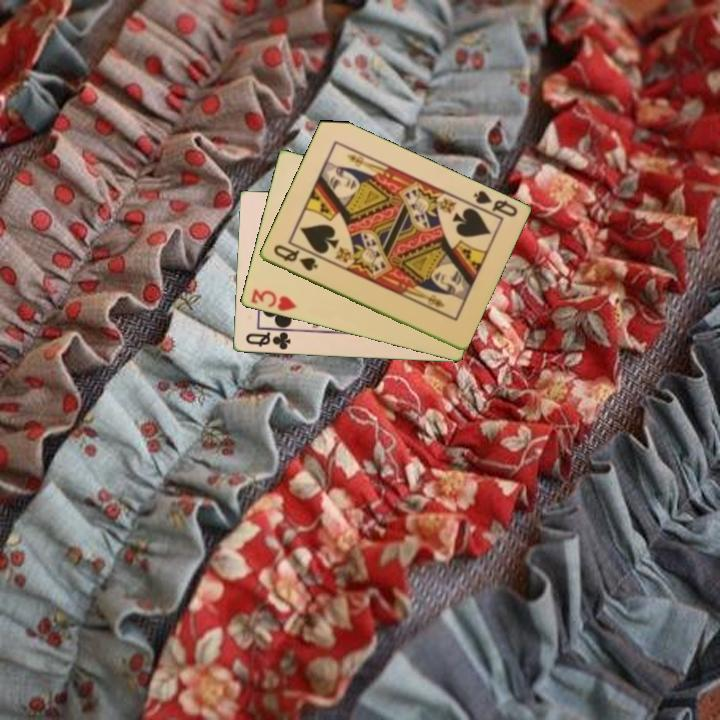3h: (247, 285, 299, 314)
Qc: (242, 327, 295, 353)
Qs: (466, 187, 520, 222), (270, 241, 321, 274)
